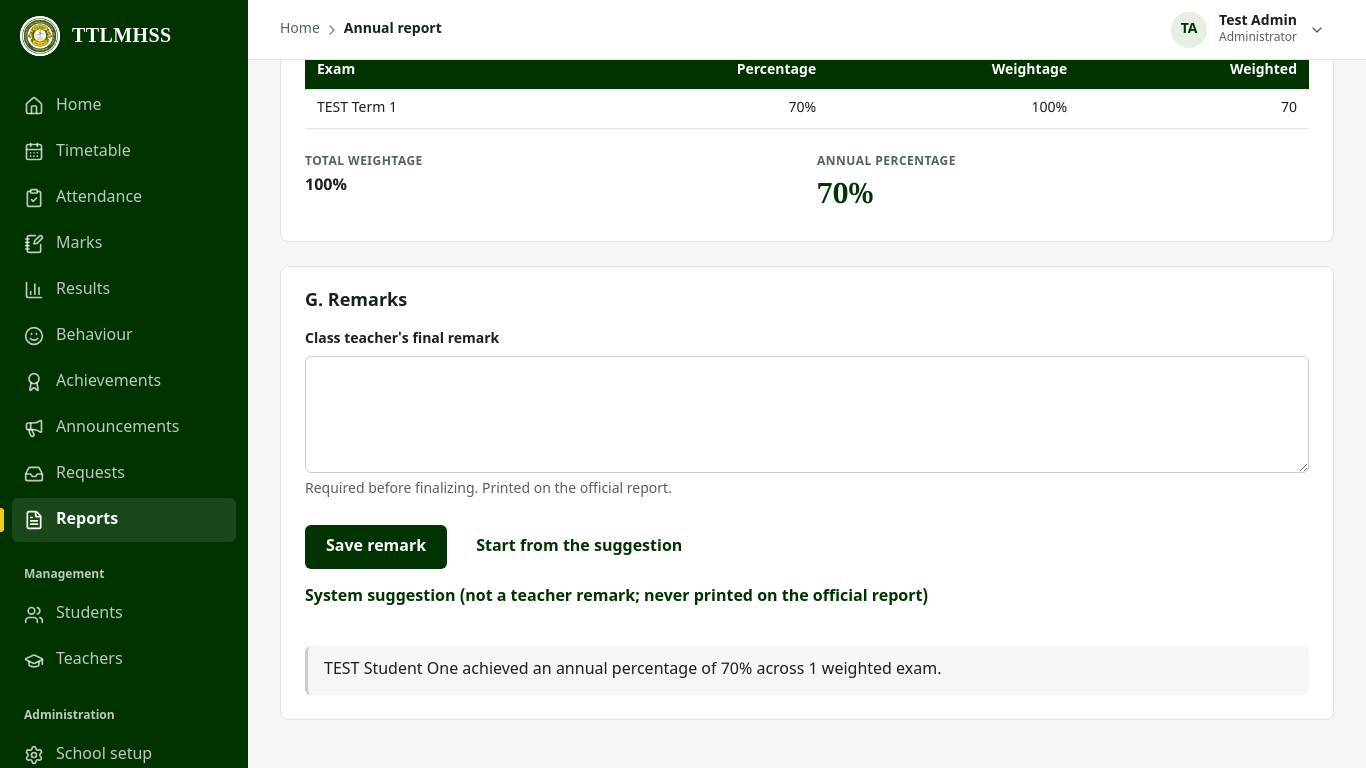
Test: annual report page › draft: problems block finalizing; remark is saved; finalize is confirmed with the revision
This screenshot has width=1366, height=768.
(page scrolled)
Expected: the text "never printed on the official report" is shown, [305, 587, 928, 607]
Type "Sincere work." into the text box labelled "Class teacher's final remark".
click(807, 415); type("Sincere work.")  # box [305, 356, 1309, 473]
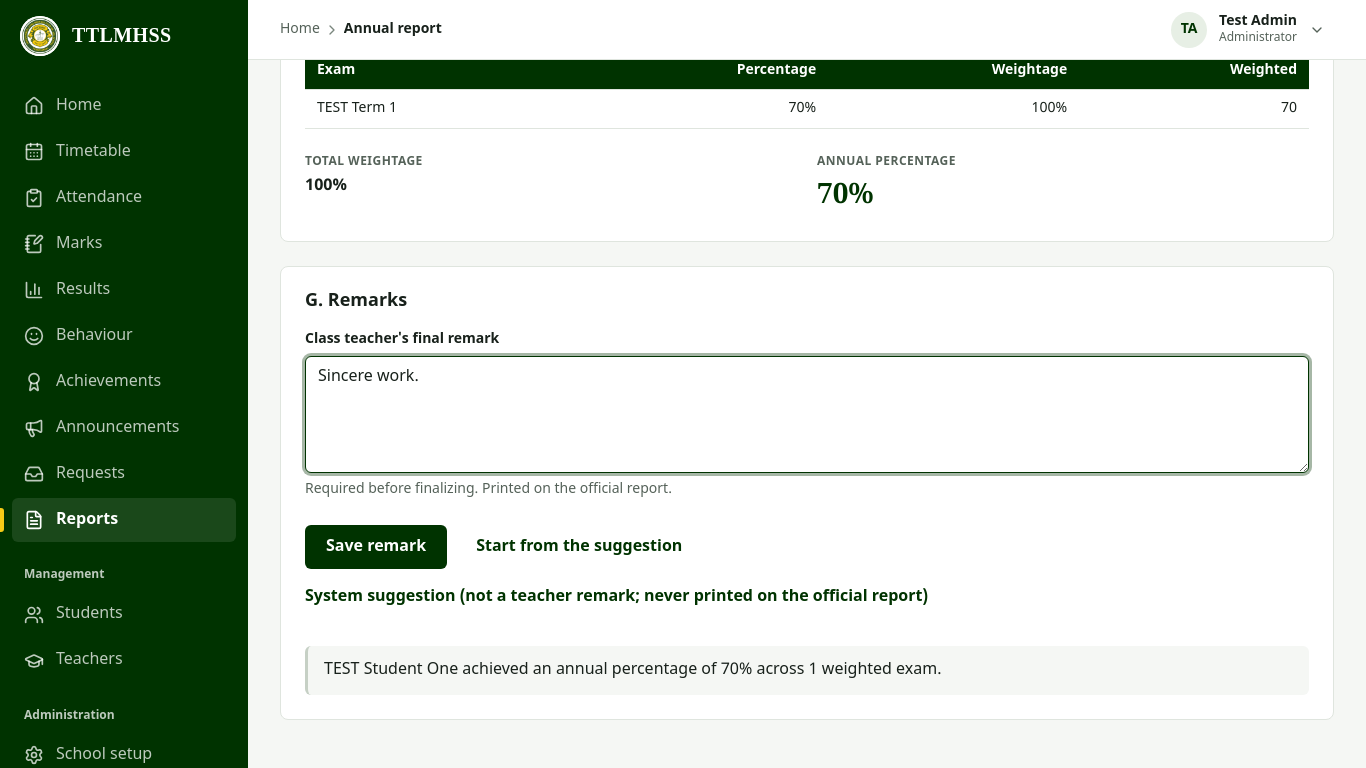
Click the button "Save remark".
click(376, 547)  # box [305, 525, 447, 569]
(page scrolled)
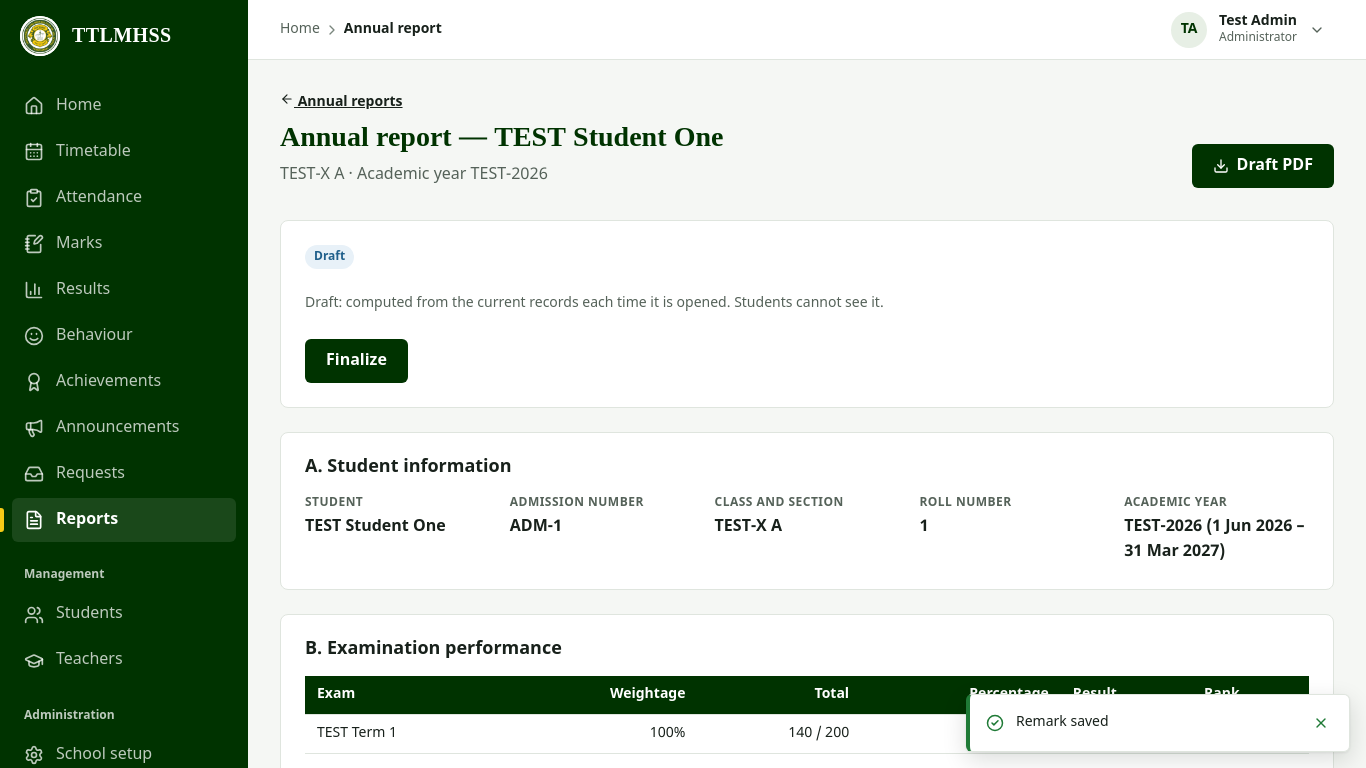
Note: The saved draft (problems gone in this fixture) can now be finalized.
Click the button "Finalize".
click(356, 361)  # box [305, 339, 408, 383]
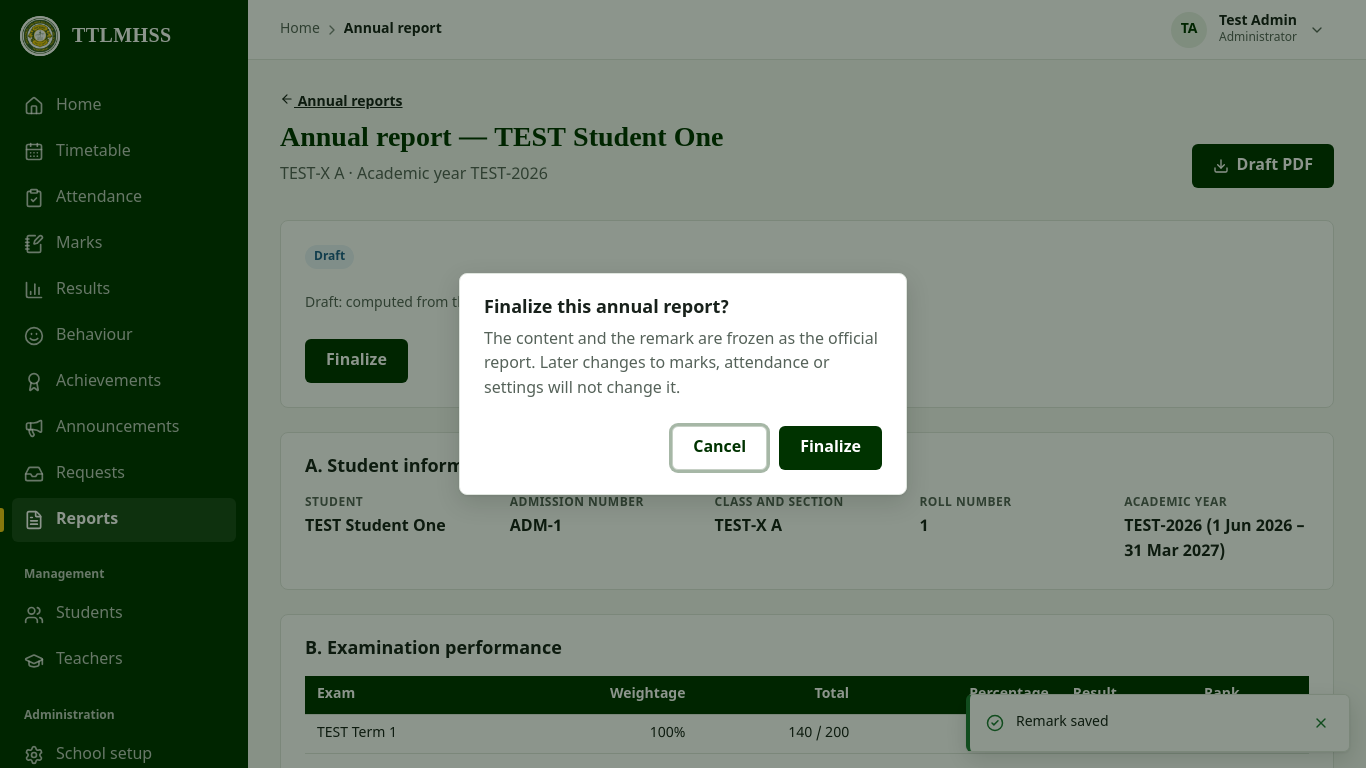
Now the text "frozen as the official report" is shown, box [484, 330, 878, 399]
Click the button "Finalize".
click(831, 448)  # box [779, 426, 882, 470]
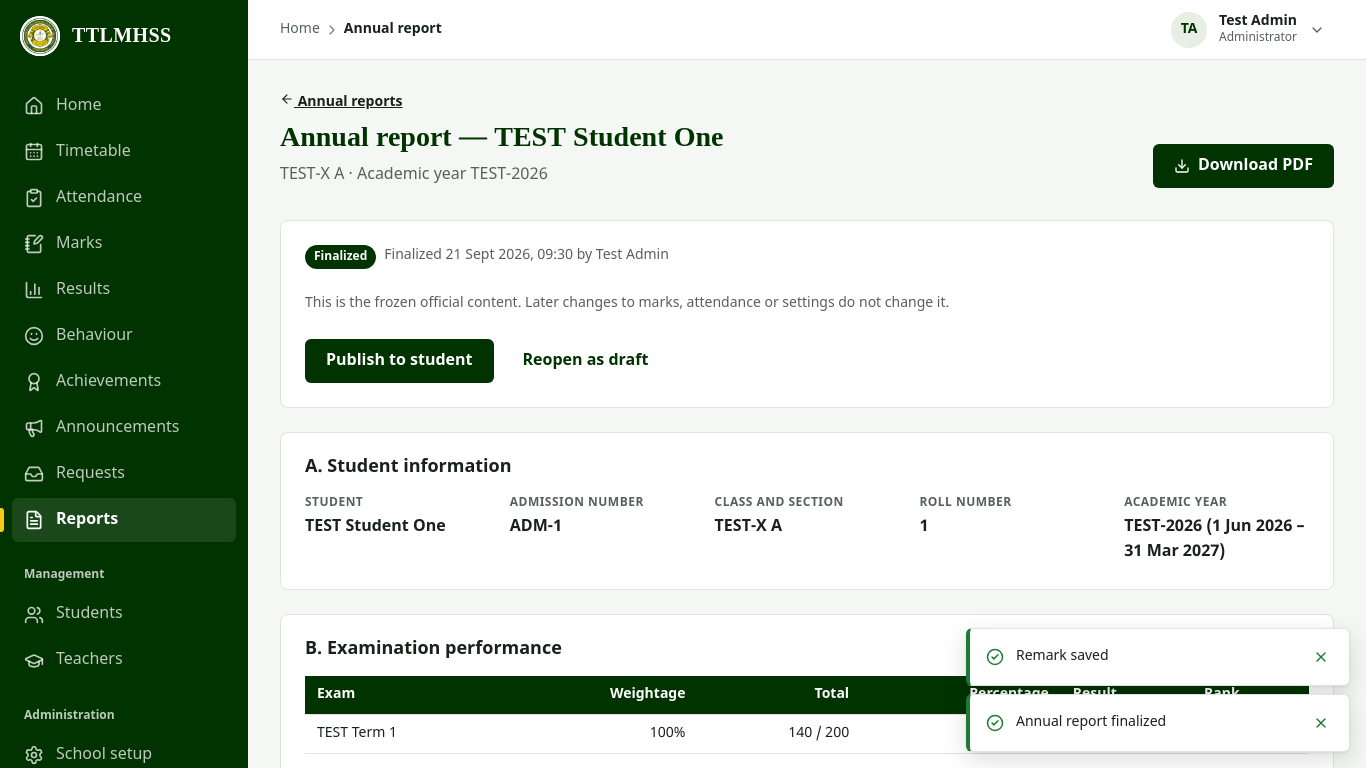
Expected: the text "never printed on the official report" is not shown
Now the text "Finalized" is shown, box [305, 245, 376, 269]
Now the button "Publish to student" is shown, box [305, 339, 494, 383]
